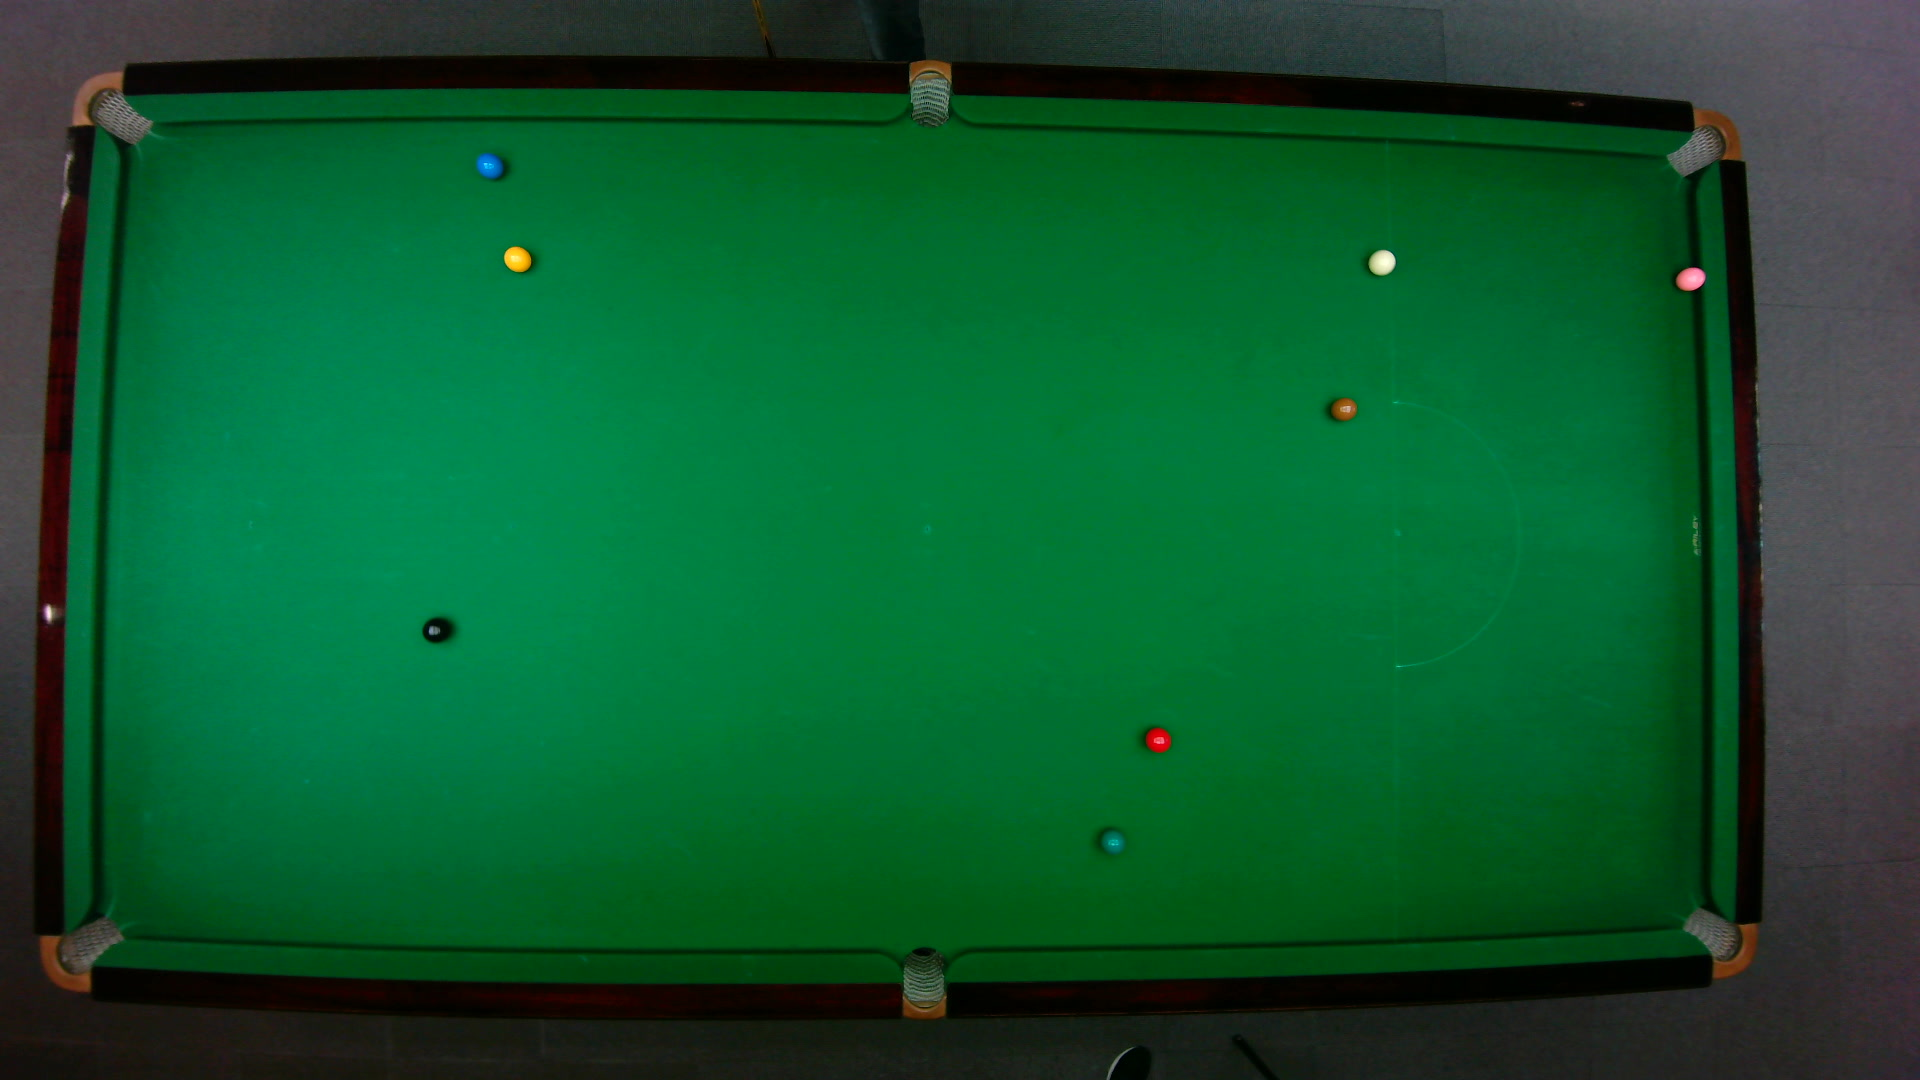bag: (37, 914, 125, 992), (69, 69, 152, 145), (1679, 905, 1756, 978), (1663, 107, 1741, 177), (901, 944, 944, 1021), (909, 57, 949, 128)
black: (419, 615, 451, 644)
blue: (473, 150, 504, 179)
green: (1097, 825, 1127, 855)
pink: (1673, 264, 1706, 291)
red: (501, 243, 533, 274), (1142, 724, 1174, 753), (1328, 396, 1358, 421)
white: (1365, 247, 1396, 276)
zone: (1390, 400, 1520, 667)
